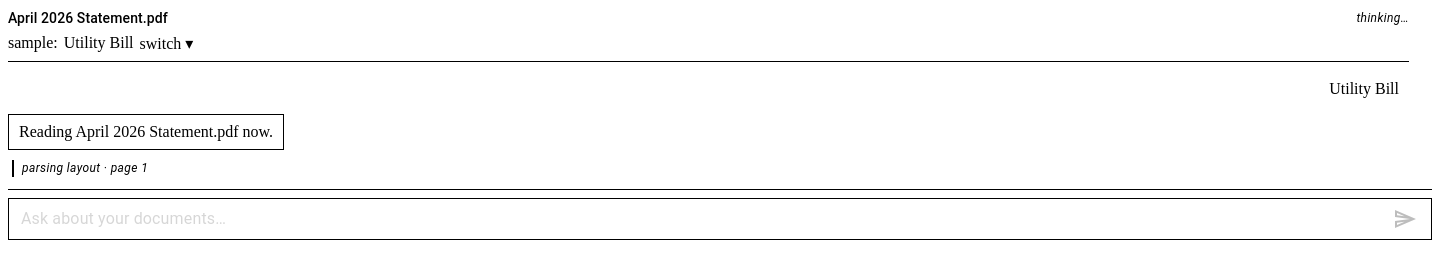
ChatColumn › the sample switcher chip exposes the other scenarios as a menu
Click the button with test id "onboarding-chat-sample-switch-trigger": (166, 44) [140,34,193,53]
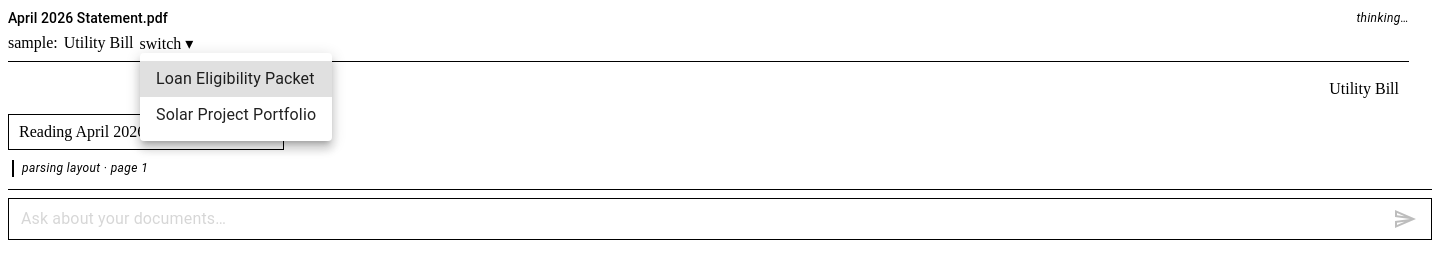
expect the menu item with test id "onboarding-chat-sample-switch-item-loan" is shown: met, box [140,61,332,97]
expect the menu item with test id "onboarding-chat-sample-switch-item-solar" is shown: met, box [156,105,316,124]
